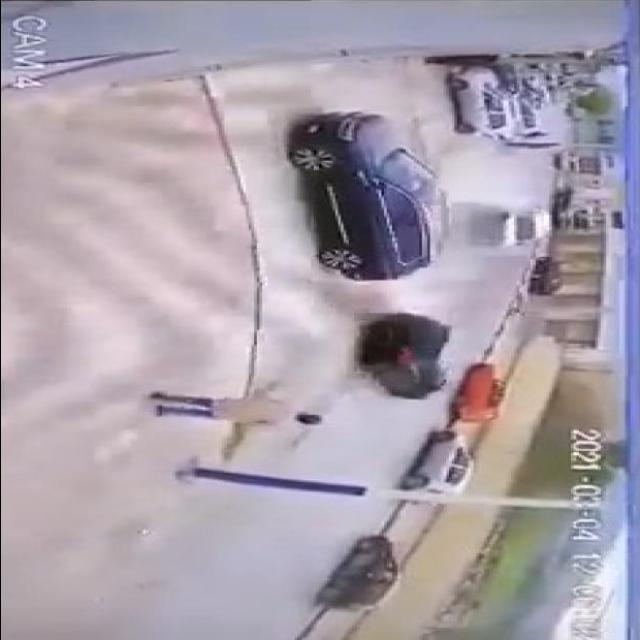accident: (457, 200, 560, 256)
non_accident: (278, 102, 446, 302), (405, 364, 517, 508), (311, 529, 413, 615), (449, 55, 531, 137), (401, 428, 467, 502)
